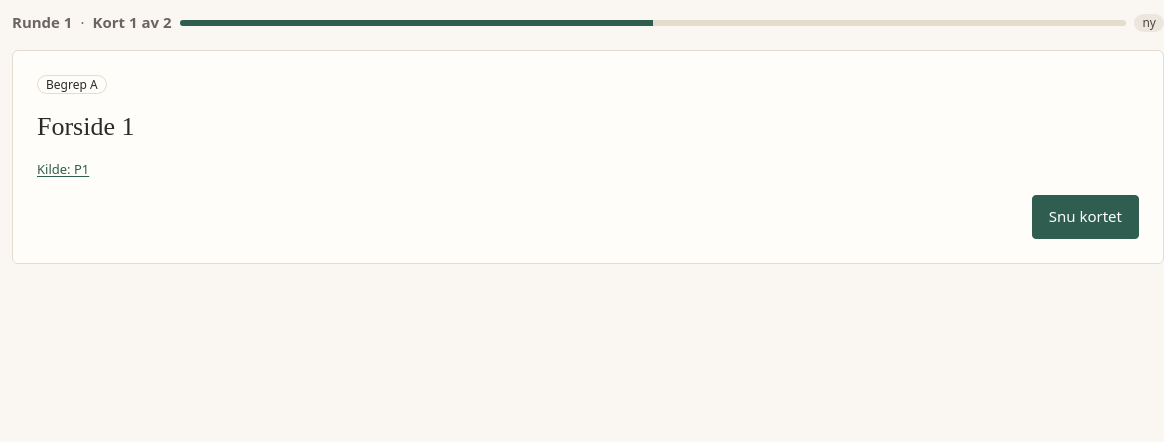
RoundScreen Flashcards › a failed save keeps the card revealed with err.generation, named by both marks
Click the button "Snu kortet". click: (1085, 217)
box: [1032,195,1139,239]
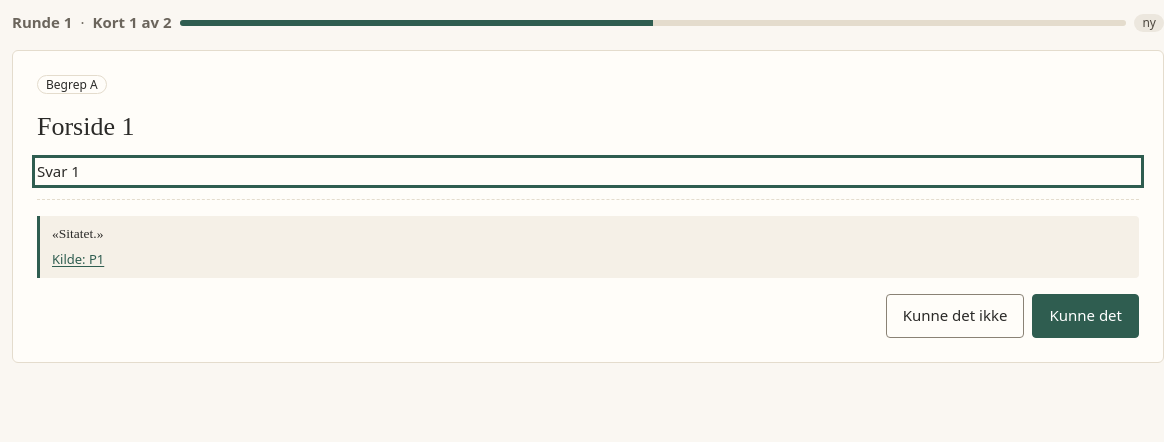
Click the button "Kunne det ikke". click: (955, 316)
box: [886,294,1024,338]
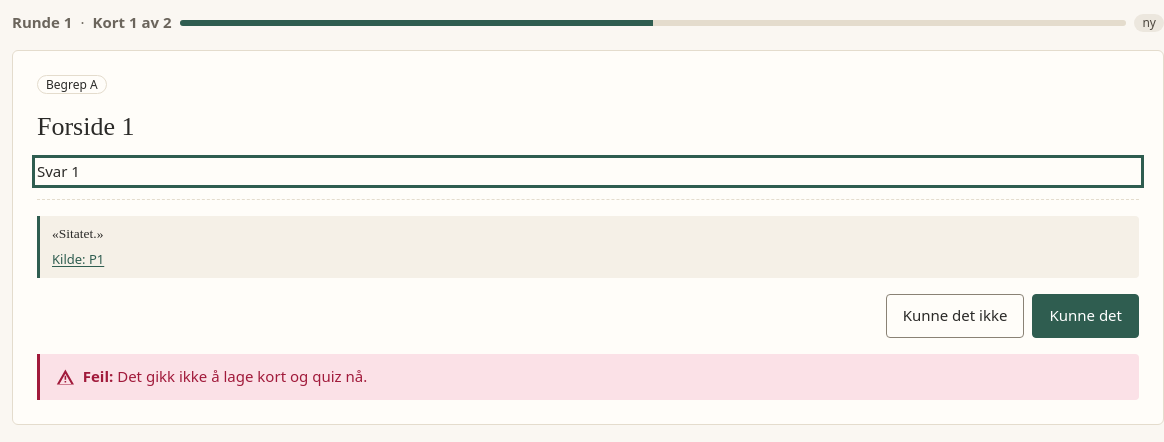
Expected: the text "Svar 1" is shown, [37,161,80,181]
Expected: the message "Feil: Det gikk ikke å lage kort og quiz nå." is shown, [37,354,1139,400]
